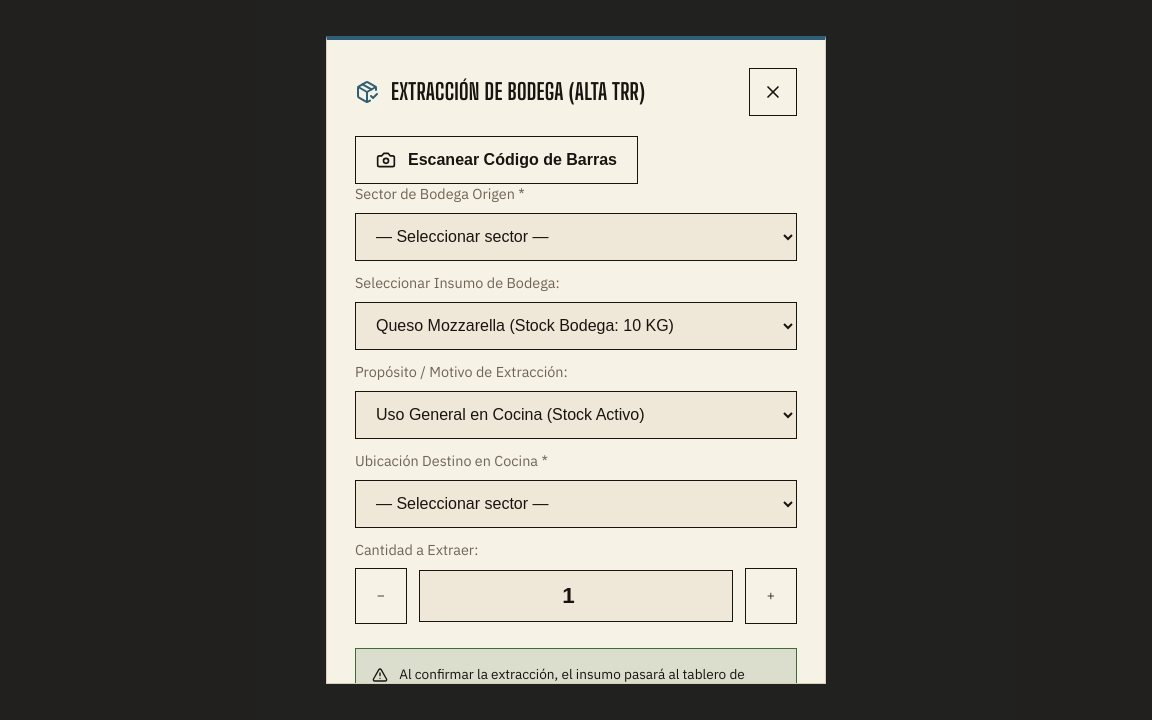
Scenario: TK-100-FE (AUDIT-DEV-006): errores reales del backend y aritmética decimal › F-6: escribir 0 en la cantidad no se auto-corrige a 0.5 y el submit lo rechaza
Replace the text in the number field labelled "Cantidad a Extraer:" with "0" at (576, 596), box [419, 570, 733, 622]
(page scrolled)
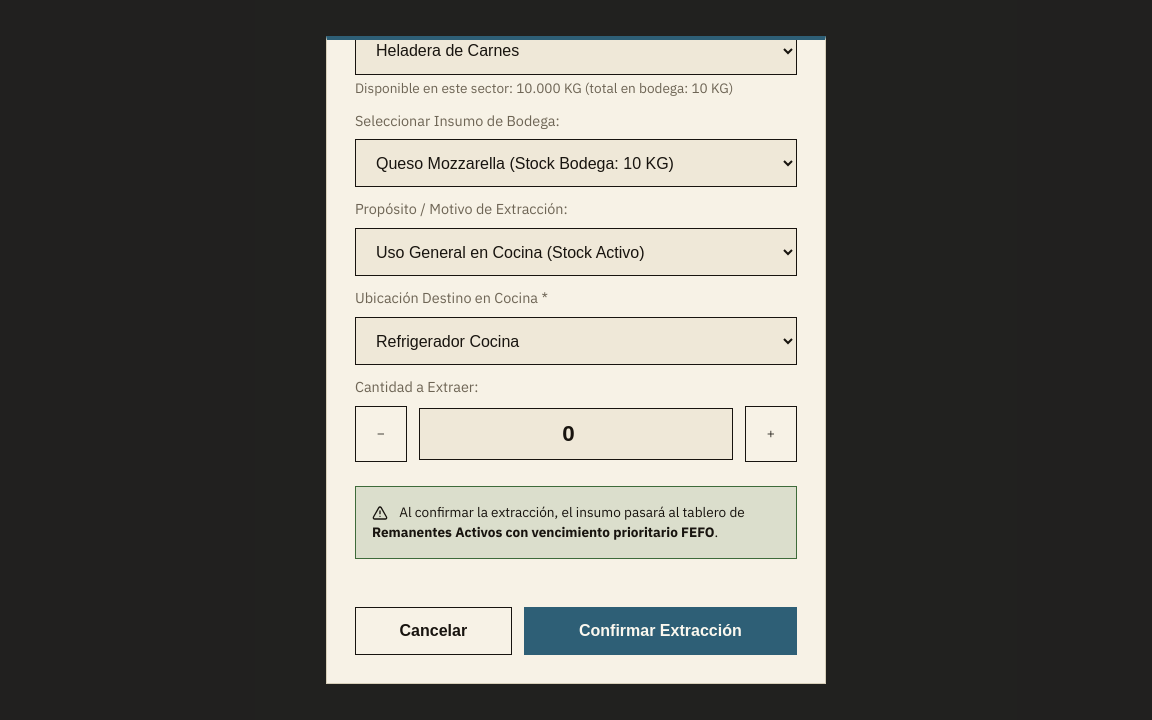
Click the button "Confirmar Extracción" at (660, 632), box [524, 608, 797, 656]
(page scrolled)
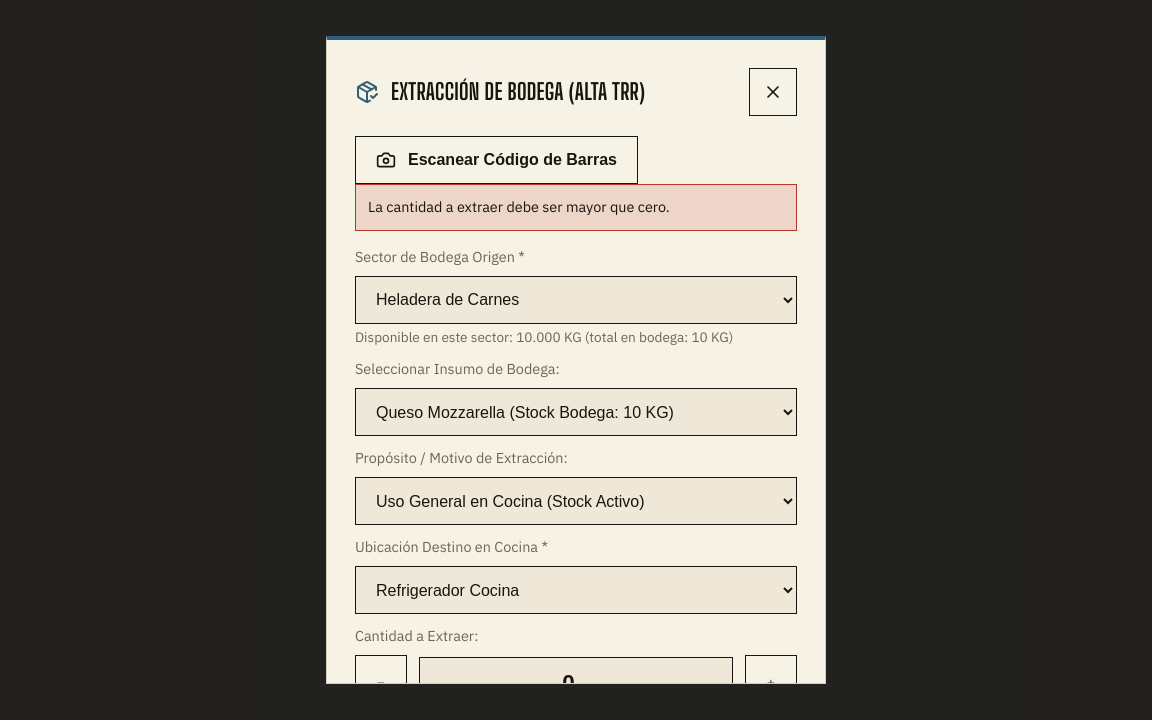
Expected: the text "La cantidad a extraer debe ser mayor que cero." is shown, [368, 197, 670, 218]
